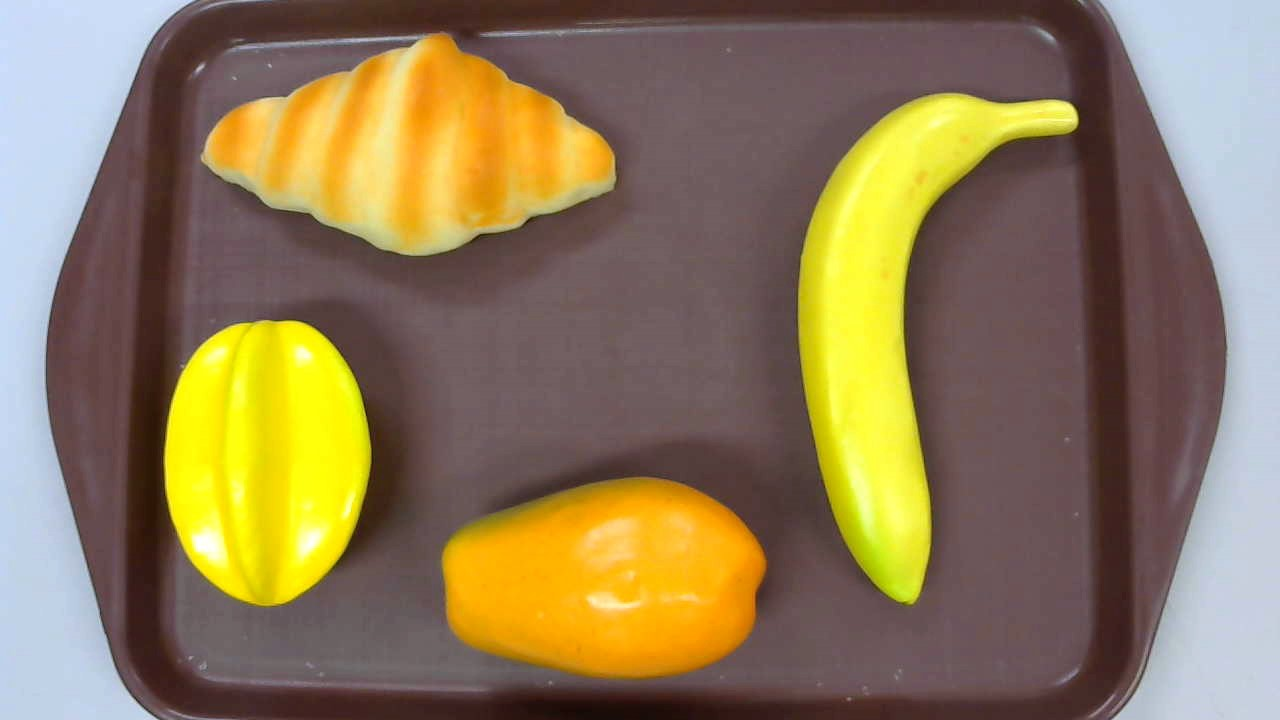banana: (797, 92, 1080, 603)
croissant: (200, 31, 616, 260)
papaya: (442, 475, 768, 680)
star fruit: (163, 320, 372, 608)
